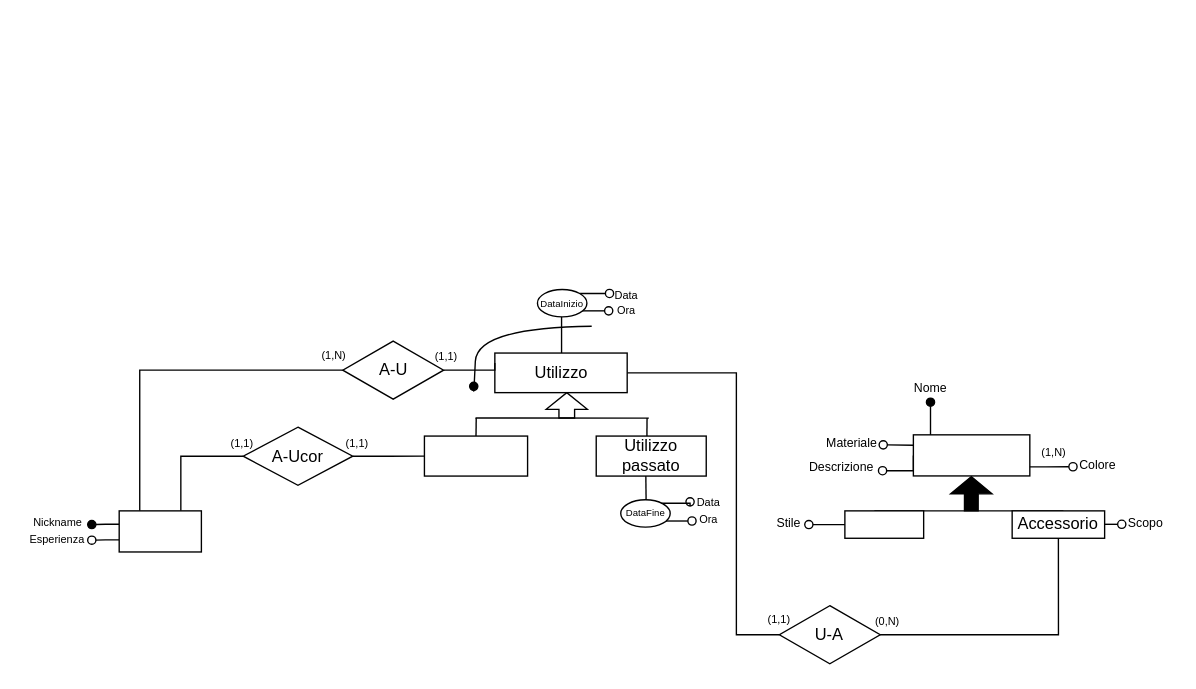
Some shapes in this 1196 by 689 pixel diagram are drawn without their labels. The shapes that lost their labels are listed below. From the top down, each one's box as (x1, y1, x2, y2) in pixels, then its label:
(423, 435, 528, 476): Utilizzo corrente
(912, 433, 1030, 476): Abbigliamento
(118, 510, 201, 552): Avatar
(844, 510, 924, 538): Abito
